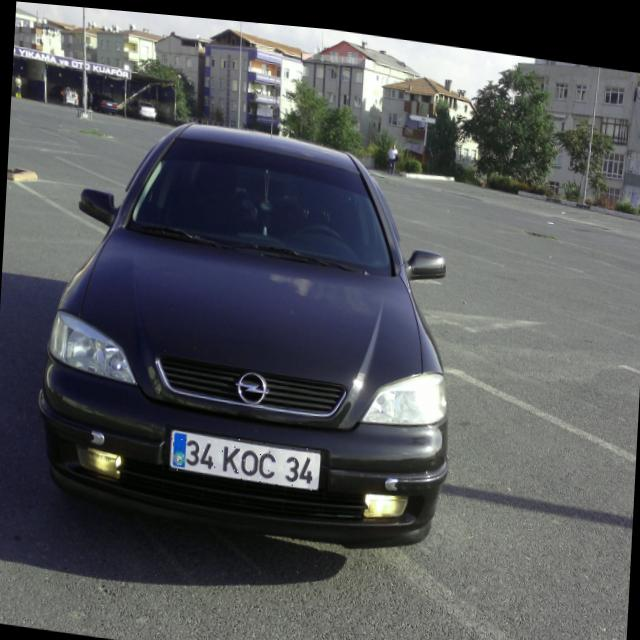license_plate: (169, 426, 321, 485)
